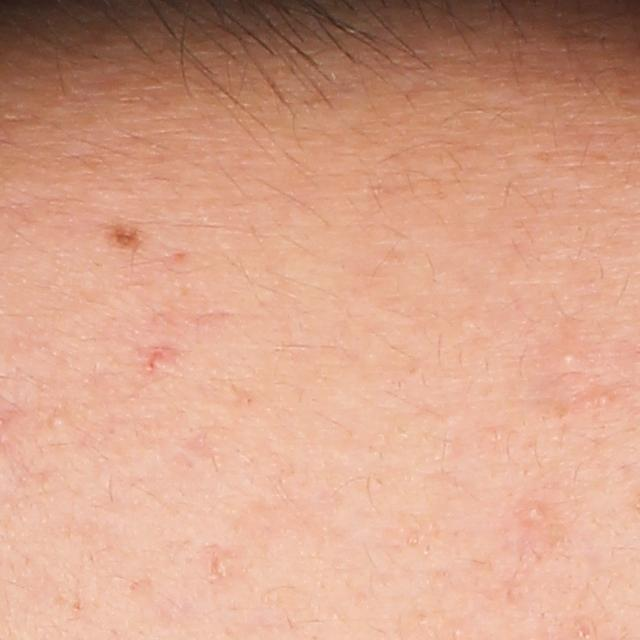comedo: (562, 352, 580, 366)
nevus: (105, 220, 145, 257)
